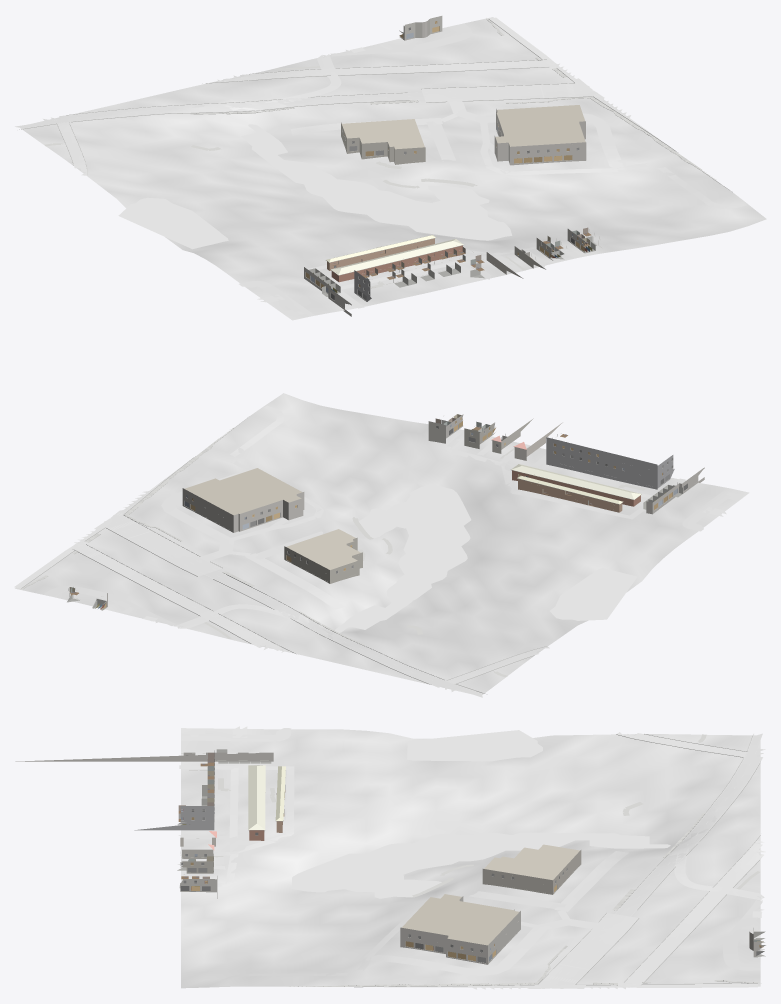
The picture shows the model from 3 angles, top to bottom: view 1: azimuth 30°, elevation 25°; view 2: azimuth 150°, elevation 25°; view 3: azimuth 270°, elevation 25°; orthographic projection. The views are drawn at different scales.
Visible parts, largest first — view 1: ground, water, asphalt, concrete, roof_flat, wall_com, curb, room, walk, wall, roof, glass_lit (+2 smaller); view 2: ground, water, asphalt, wall_com, concrete, roof_flat, curb, wall, roof, walk, room, wall_stucco (+3 smaller); view 3: ground, water, concrete, asphalt, wall_com, roof_flat, walk, roof, curb, room, mark_w, glass.
Part boxes in pixels (x1,y1,x2,y2): ground: [20, 17, 766, 320]; water: [118, 124, 512, 249]; asphalt: [15, 17, 630, 128]; concrete: [57, 23, 746, 317]; roof_flat: [342, 105, 585, 149]; wall_com: [304, 16, 586, 316]; curb: [19, 19, 728, 189]; room: [309, 31, 596, 296]; walk: [44, 18, 716, 288]; wall: [327, 238, 462, 282]; roof: [326, 235, 463, 275]; glass_lit: [305, 21, 584, 292]; ground: [15, 393, 749, 694]; water: [335, 483, 637, 632]; asphalt: [14, 490, 482, 697]; wall_com: [103, 414, 704, 609]; concrete: [43, 405, 742, 683]; roof_flat: [184, 468, 360, 569]; curb: [21, 417, 546, 693]; wall: [512, 470, 640, 512]; roof: [491, 435, 641, 504]; walk: [20, 427, 645, 677]; room: [67, 414, 682, 610]; wall_stucco: [492, 418, 562, 460]; ground: [181, 728, 760, 988]; water: [290, 730, 670, 898]; concrete: [177, 726, 764, 986]; asphalt: [468, 733, 765, 989]; wall_com: [15, 750, 764, 964]; roof_flat: [402, 844, 579, 945]; walk: [180, 734, 761, 986]; roof: [208, 765, 285, 850]; curb: [354, 733, 760, 987]; room: [177, 749, 765, 960]; mark_w: [424, 735, 761, 987]; glass: [180, 755, 764, 962].
Size of the model in its own units: 260 by 20.96 by 325.
